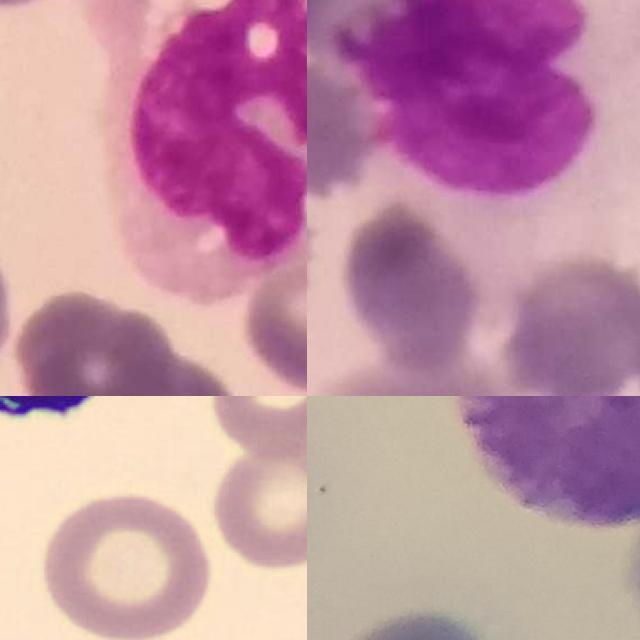Basophil: (455, 396, 640, 528)
Monocyte: (351, 0, 640, 226), (92, 0, 307, 300)
RBC: (31, 486, 218, 640), (205, 427, 307, 572), (207, 396, 307, 461)
